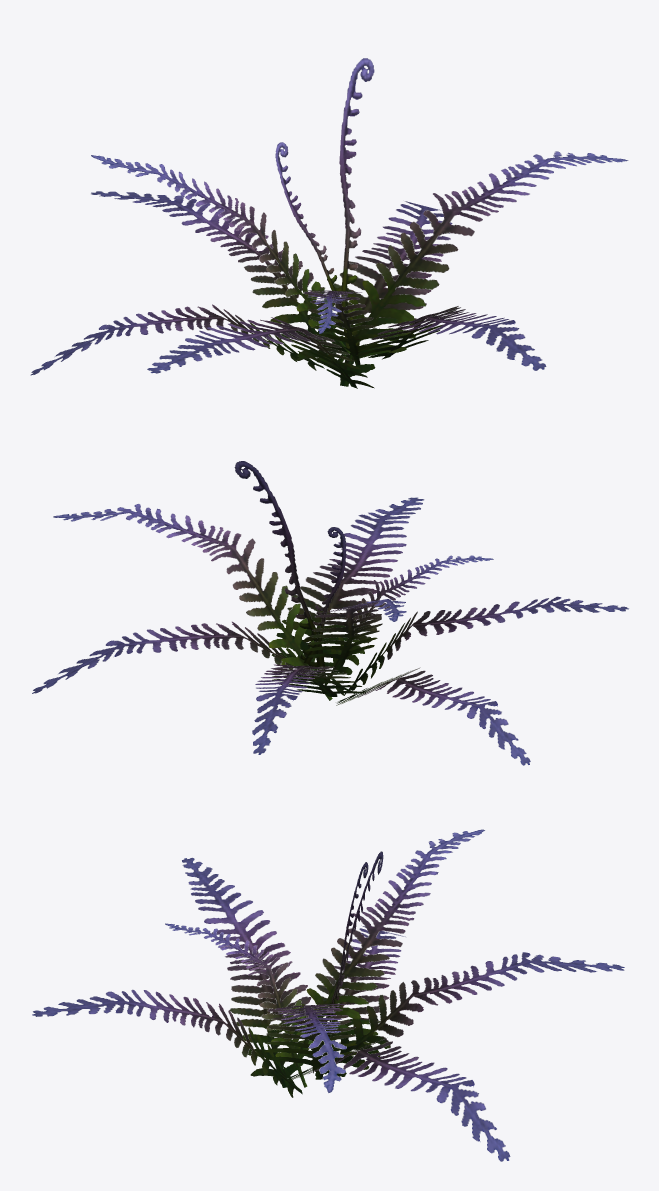
The model's file is QHS_zhiwu.FBX.
3 renders of one model, top to bottom at view 1: azimuth 30°, elevation 25°; view 2: azimuth 150°, elevation 25°; view 3: azimuth 270°, elevation 25°, orthographic. The views are drawn at different scales.
Visible parts, largest first — view 1: QHS_zhiwu; view 2: QHS_zhiwu; view 3: QHS_zhiwu.
Part boxes in pixels (box(x1,y1,x2,y2)): QHS_zhiwu: box(30, 58, 628, 388); QHS_zhiwu: box(32, 461, 628, 765); QHS_zhiwu: box(32, 829, 624, 1161).
Size of the model in its own units: 224 by 116 by 218.
